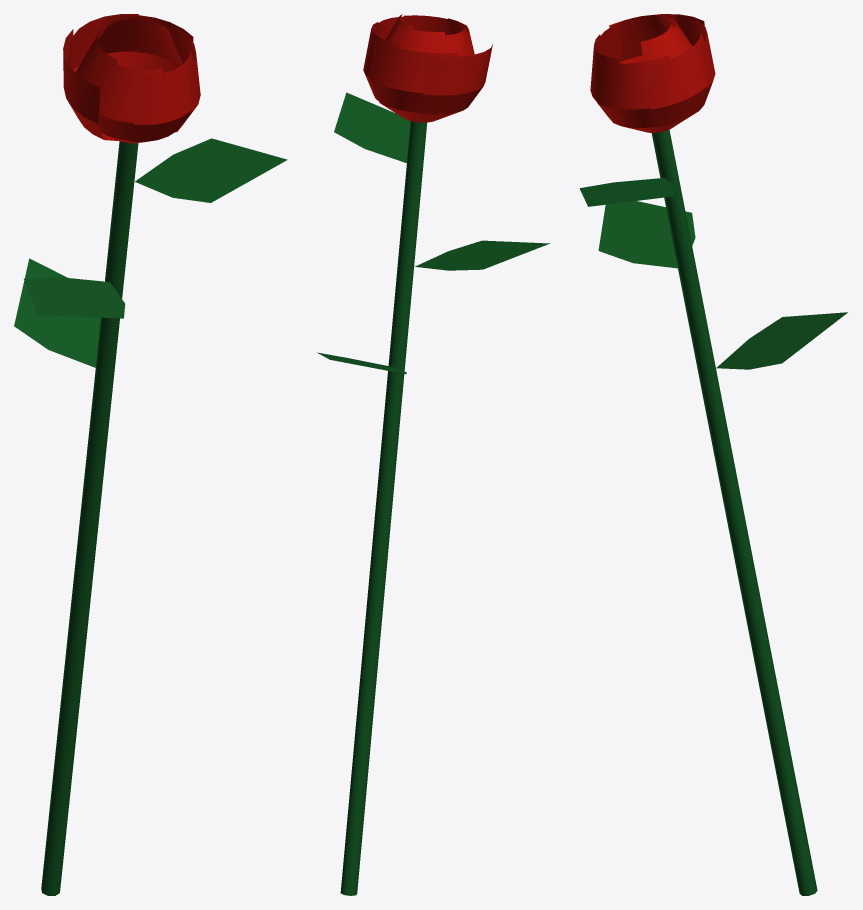
The model's file is rose.fbx.
The picture shows the model from 3 angles, left to right: view 1: azimuth 30°, elevation 25°; view 2: azimuth 150°, elevation 25°; view 3: azimuth 270°, elevation 25°; orthographic projection. The views are drawn at different scales.
Parts seen in each view (by area): view 1: 2:1, 1:1; view 2: 2:1, 1:1; view 3: 2:1, 1:1.
Part boxes in pixels (x1,y1,x2,y2): 2:1: [14, 14, 287, 367]; 1:1: [41, 141, 138, 895]; 2:1: [317, 14, 550, 374]; 1:1: [340, 121, 426, 895]; 2:1: [579, 14, 847, 369]; 1:1: [651, 129, 817, 895].
Size of the model in its own units: 0.1149 by 0.4232 by 0.1187.
